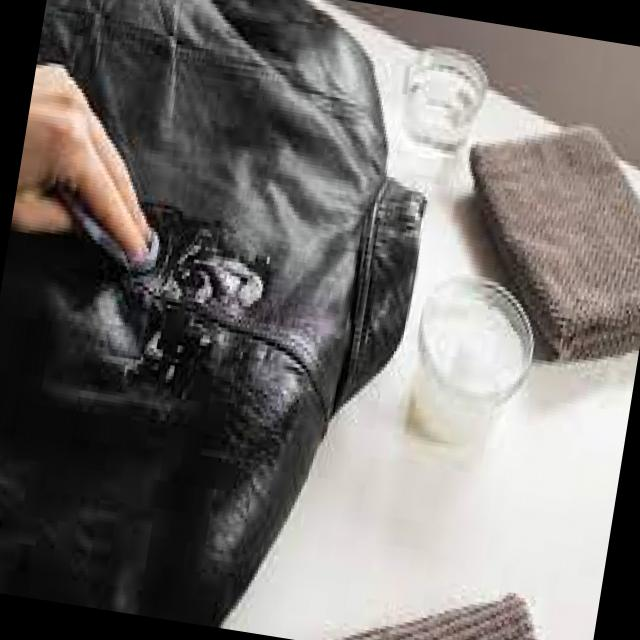Jacket: (0, 0, 401, 640)
